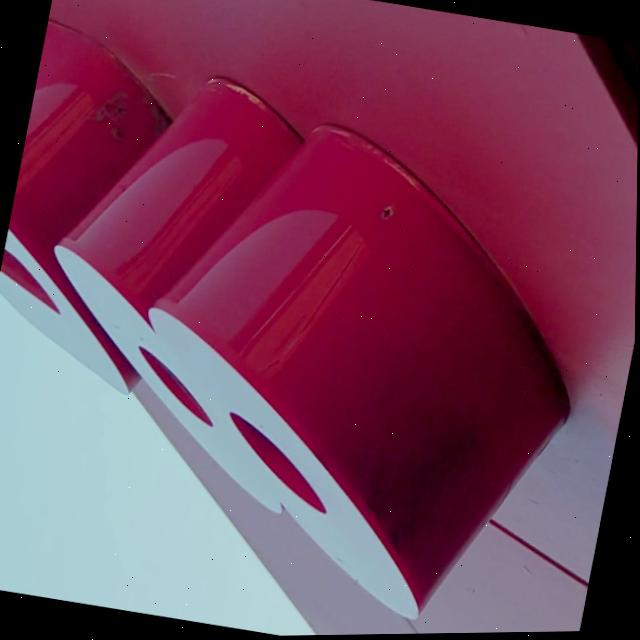character: (0, 224, 487, 633)
